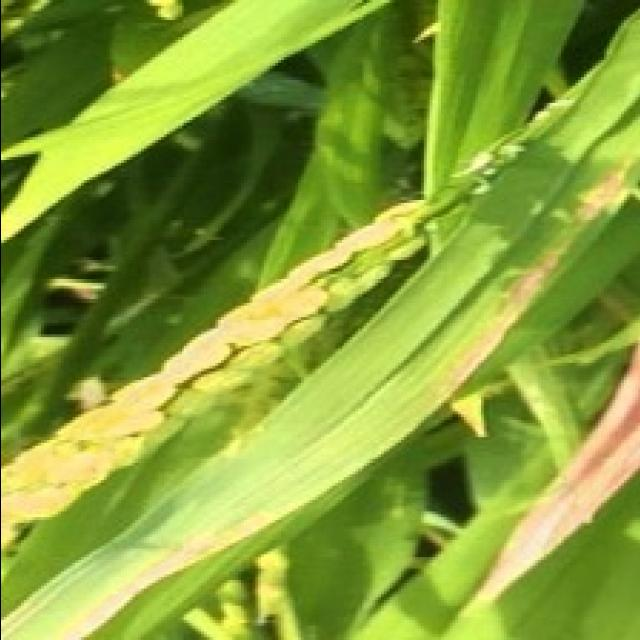Unhealthy: (459, 328, 640, 614), (62, 505, 291, 638), (445, 229, 578, 386), (571, 145, 640, 222)
